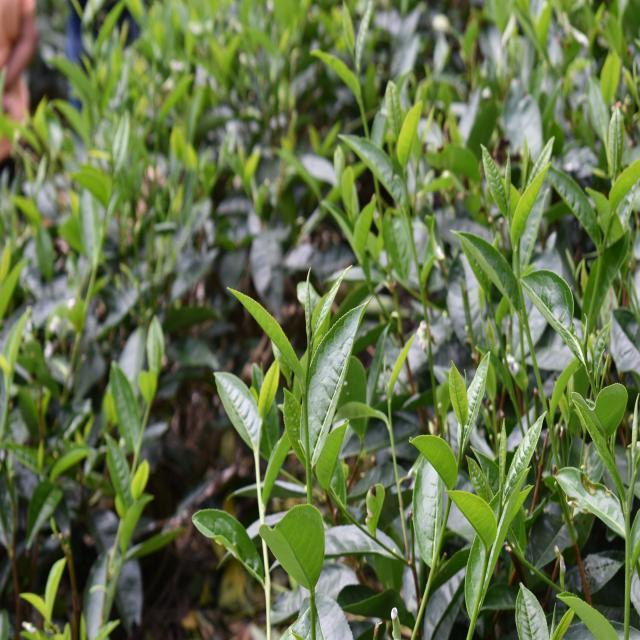Stem: (388, 423, 391, 430)
